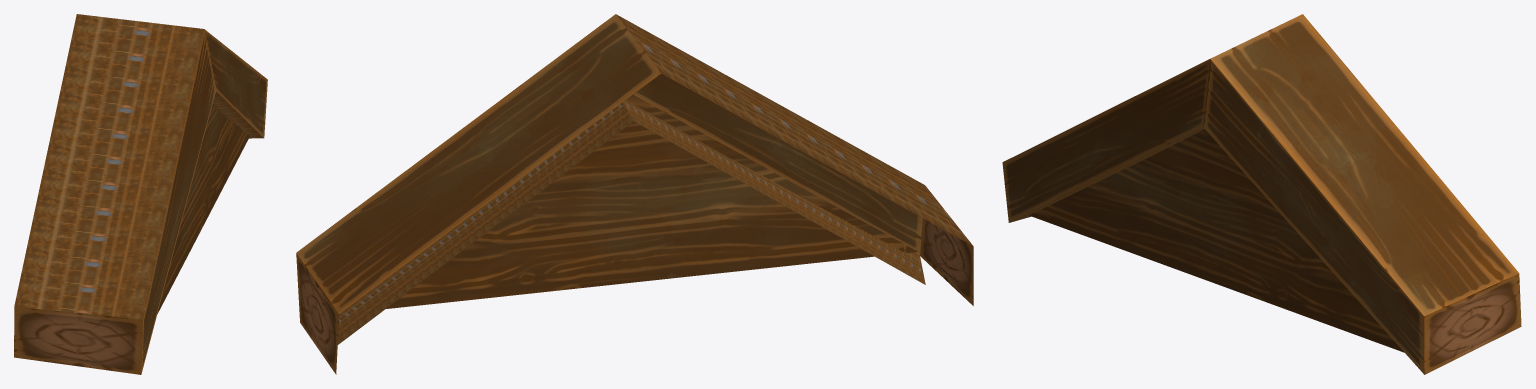
The picture shows the model from 3 angles, left to right: view 1: azimuth 30°, elevation 25°; view 2: azimuth 150°, elevation 25°; view 3: azimuth 270°, elevation 25°; orthographic projection. The views are drawn at different scales.
Parts seen in each view (by area): view 1: Cube.1912; view 2: Cube.1912; view 3: Cube.1912.
Boxes of the visible parts, x1,y1,x2,y2 form: Cube.1912: (14,14,267,374); Cube.1912: (296,14,973,374); Cube.1912: (1002,14,1521,374).
Size of the model in its own units: 162 by 89.62 by 170.
1 material, 1 textured.
